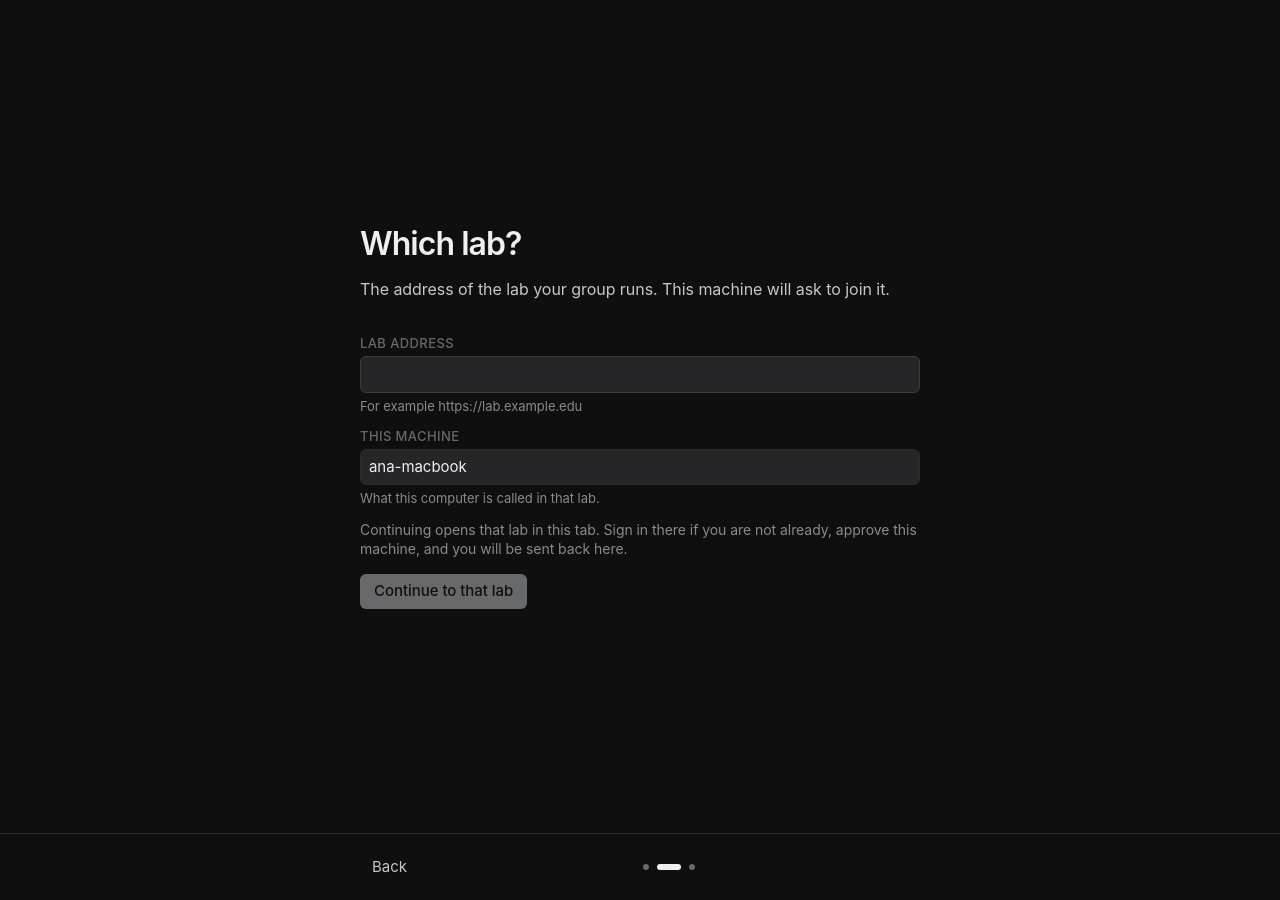
Test case: says what a lab refused rather than leaving the tab where it was
The image size is (1280, 900).
Expected: the field labelled "This machine What this computer is called in that lab." holds "ana-macbook", x1=360 y1=449 x2=920 y2=485
Type "https://nope.example" into the field labelled "Lab address For example https://lab.example.edu" at (640,374), box x1=360 y1=356 x2=920 y2=393
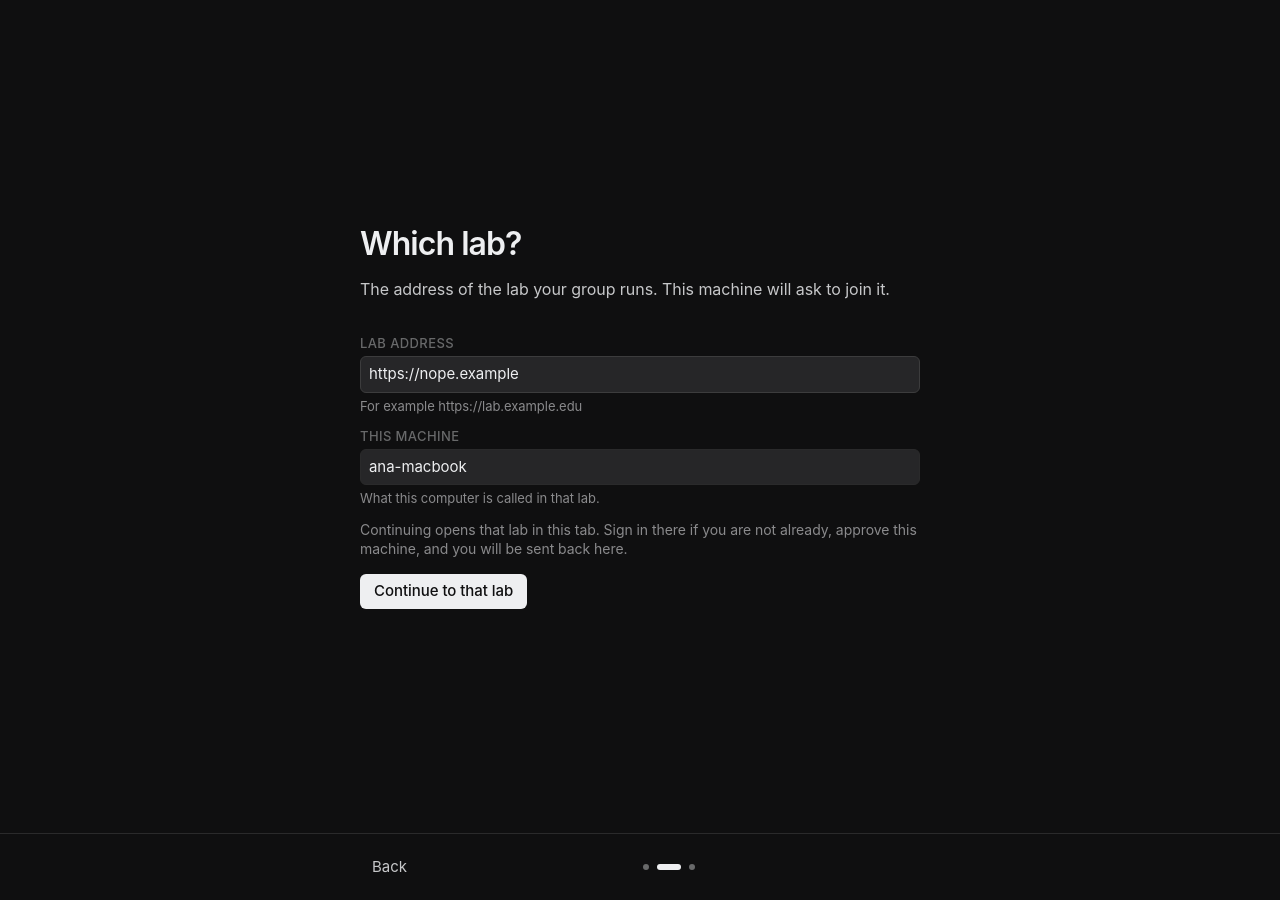
Click the button "Continue to that lab" at (444,591), box x1=360 y1=574 x2=527 y2=609
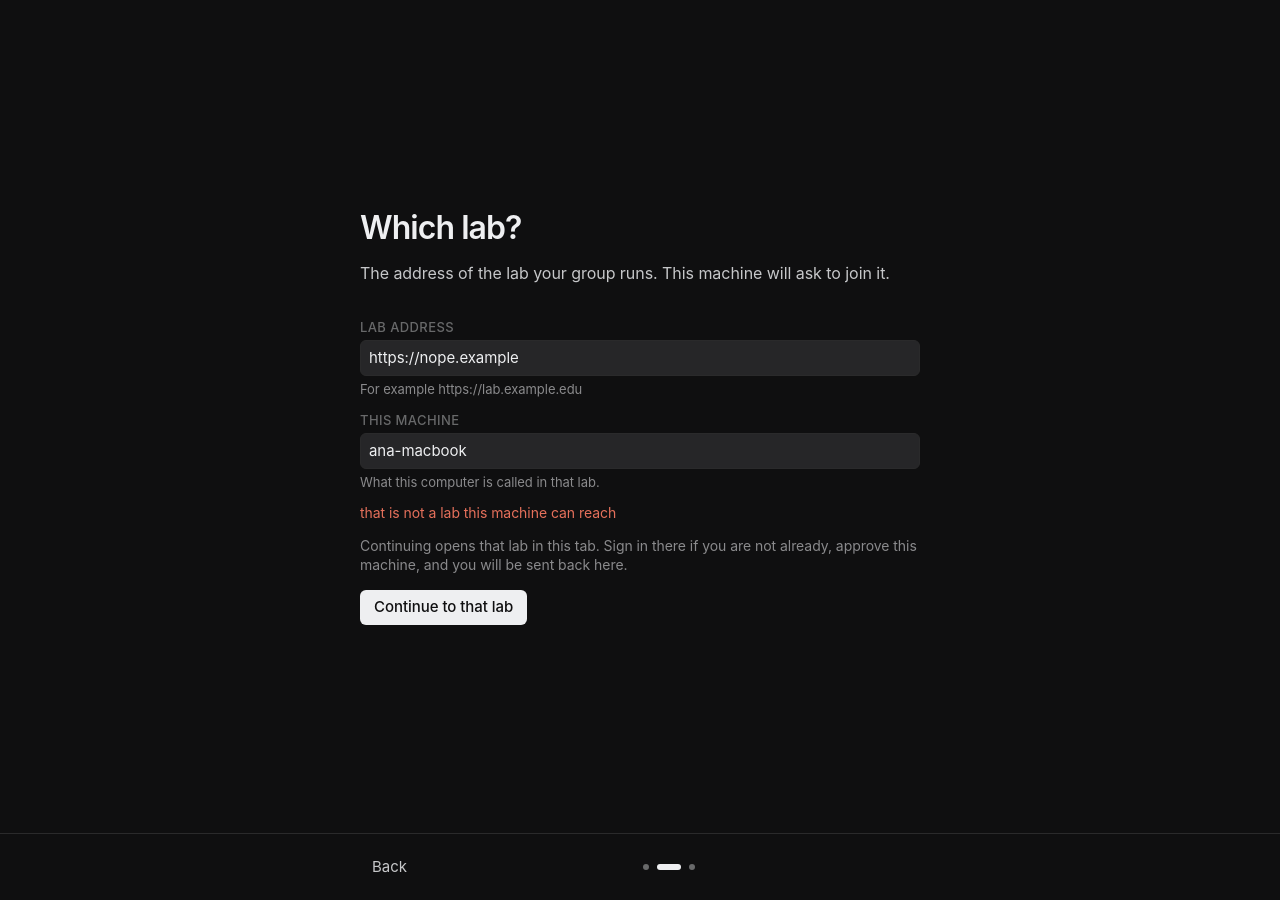
Result: the text "that is not a lab this machine can reach" is shown at x1=360 y1=504 x2=616 y2=522
